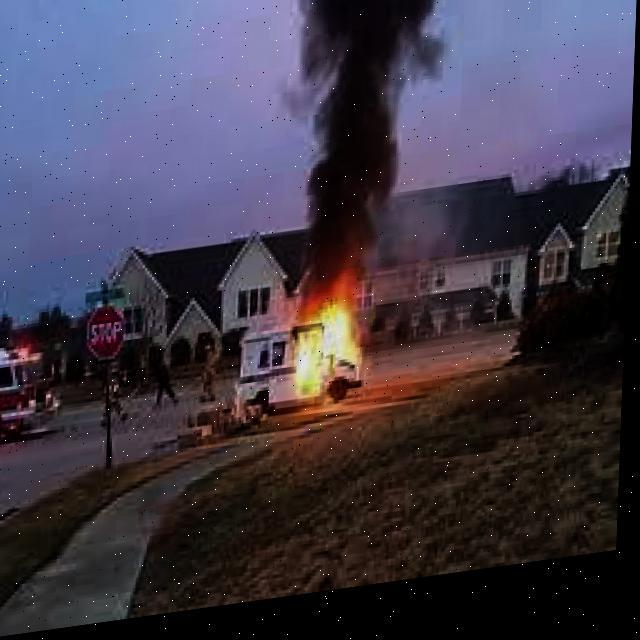Fire: (284, 289, 387, 417)
